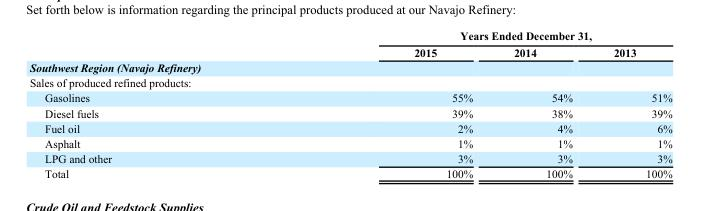table: (28, 29, 671, 179)
table column: (28, 29, 262, 179), (262, 29, 492, 179), (492, 29, 592, 179), (592, 29, 671, 179)
table column header: (28, 29, 671, 59)
table projected row header: (28, 74, 671, 90), (28, 59, 671, 74)
table row: (28, 43, 671, 59), (28, 74, 671, 90), (28, 59, 671, 74), (28, 90, 671, 105), (28, 105, 671, 120), (28, 120, 671, 135), (28, 135, 671, 150), (28, 150, 671, 165), (28, 29, 671, 43), (28, 165, 671, 179)
table spanning cell: (262, 29, 671, 43)
